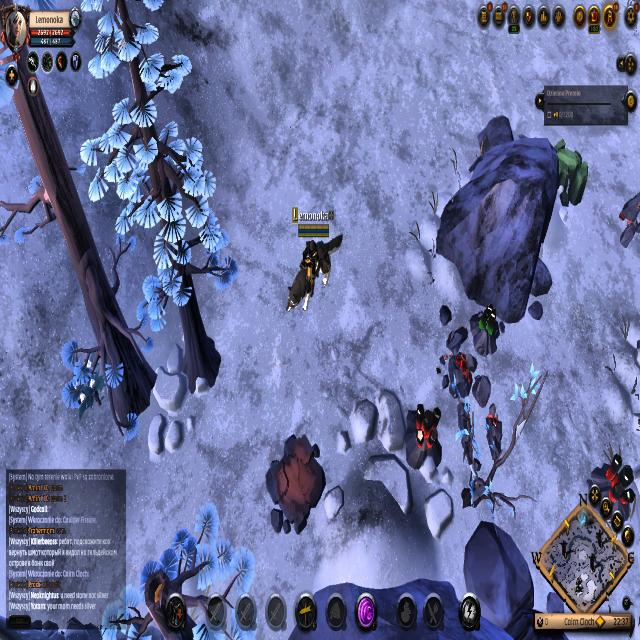ore tier 3: (471, 302, 504, 358)
ore tier 5: (405, 403, 444, 470)
